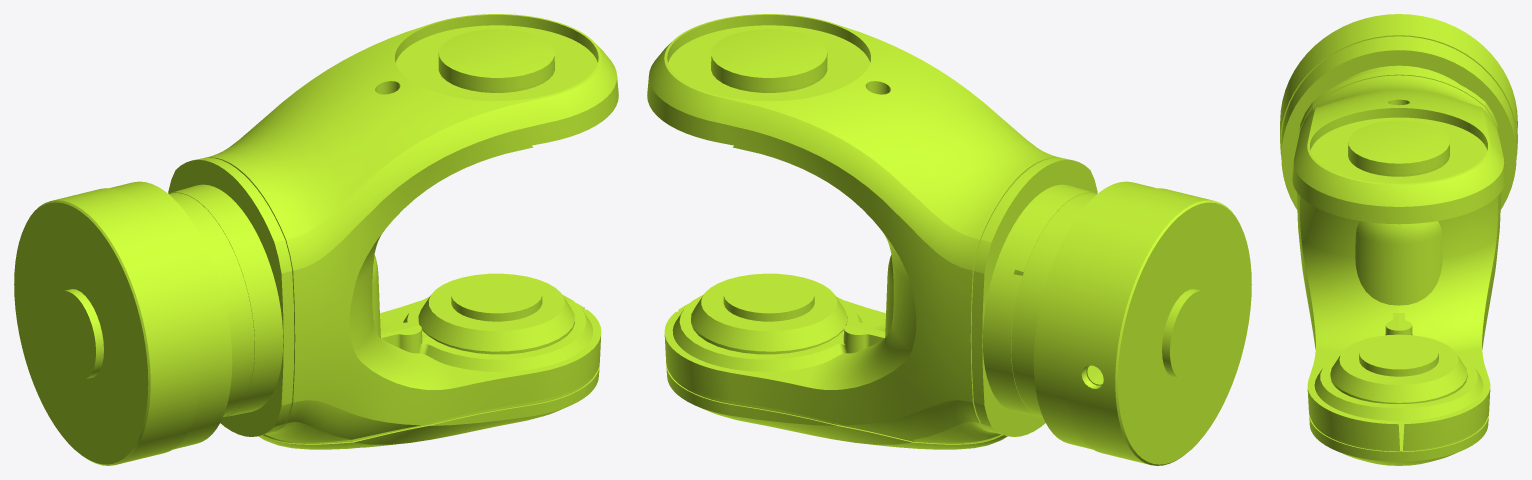
File: Pfen3DE45D4A9opp_86_Pfen3DE45D4A9opp_Mesh_0.obj
3 views of the same model, side by side, from view 1: azimuth 30°, elevation 25°; view 2: azimuth 150°, elevation 25°; view 3: azimuth 270°, elevation 25° (orthographic). The views are drawn at different scales.
Visible parts, largest first — view 1: Mesh_Diffuse_9; view 2: Mesh_Diffuse_9; view 3: Mesh_Diffuse_9.
Part boxes in pixels (x1,y1,x2,y2): Mesh_Diffuse_9: (14, 14, 618, 465); Mesh_Diffuse_9: (647, 14, 1251, 465); Mesh_Diffuse_9: (1280, 14, 1517, 465).
Size of the model in its own units: 0.6698 by 0.4275 by 0.298.
